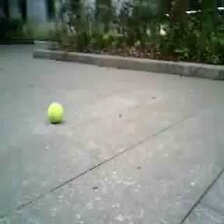tennis: (46, 102, 64, 124)
